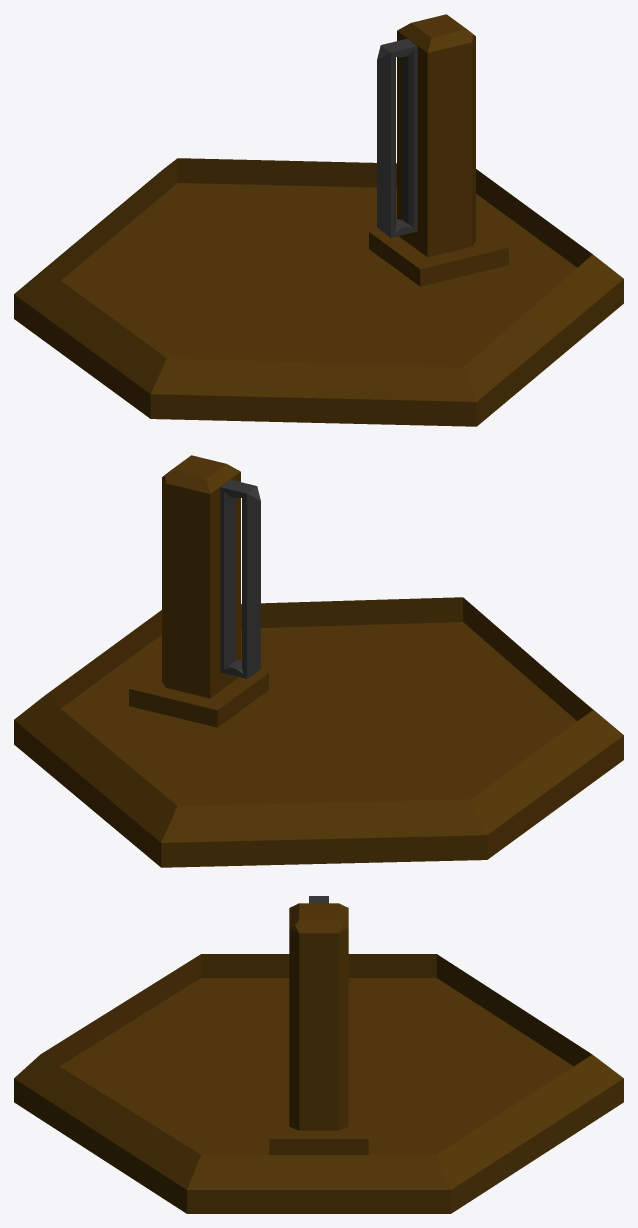
Rendered from peeler.fbx.
The picture shows the model from 3 angles, top to bottom: view 1: azimuth 30°, elevation 25°; view 2: azimuth 150°, elevation 25°; view 3: azimuth 270°, elevation 25°; orthographic projection. The views are drawn at different scales.
Parts seen in each view (by area): view 1: PeelerBase, Peeler; view 2: PeelerBase, Peeler; view 3: PeelerBase, Peeler.
Part boxes in pixels (bbox=[...]): PeelerBase: bbox=[14, 158, 623, 426]; Peeler: bbox=[369, 14, 508, 286]; PeelerBase: bbox=[14, 597, 623, 867]; Peeler: bbox=[129, 455, 268, 727]; PeelerBase: bbox=[14, 954, 623, 1213]; Peeler: bbox=[269, 896, 368, 1154].
Size of the model in its own units: 200 by 103 by 231.
